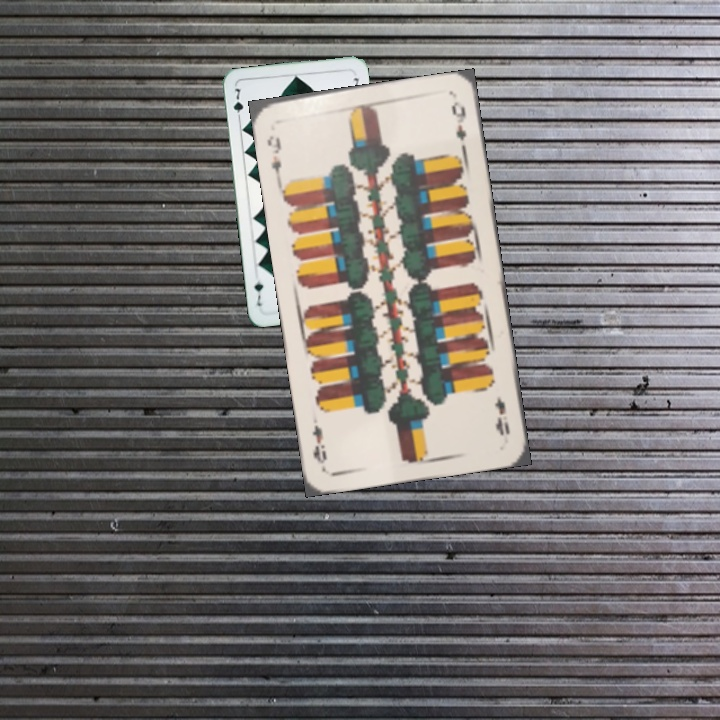E9: (263, 132, 284, 182), (491, 393, 513, 438)
G7: (230, 84, 246, 124)
